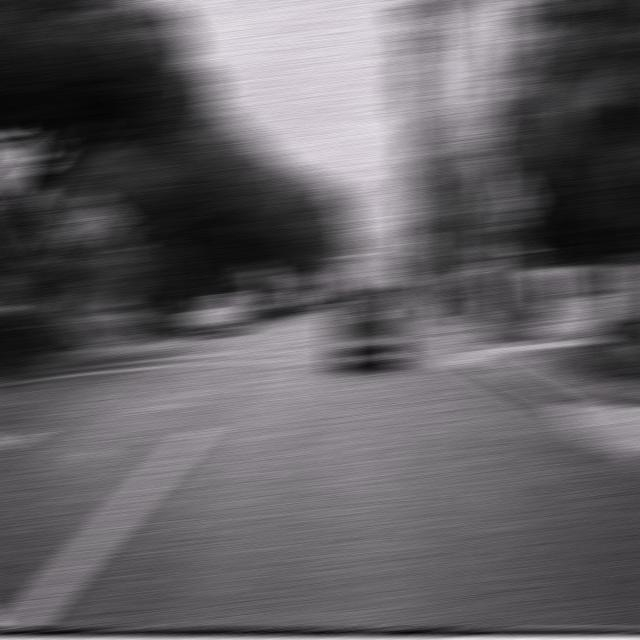pedestrianCrossing: (492, 171, 538, 234)
